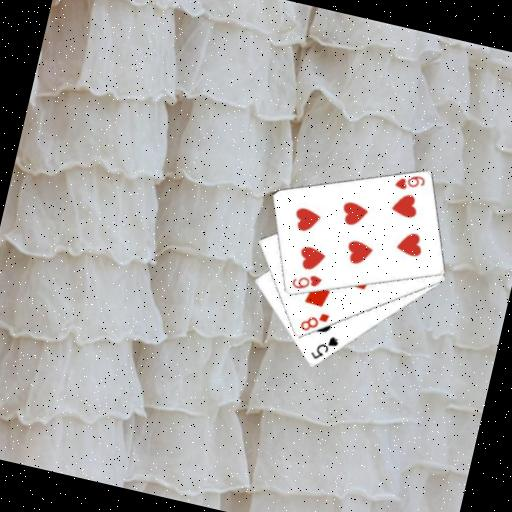5S: (306, 329, 341, 365)
6H: (287, 268, 324, 296), (391, 168, 428, 196)
8D: (296, 305, 332, 337)
